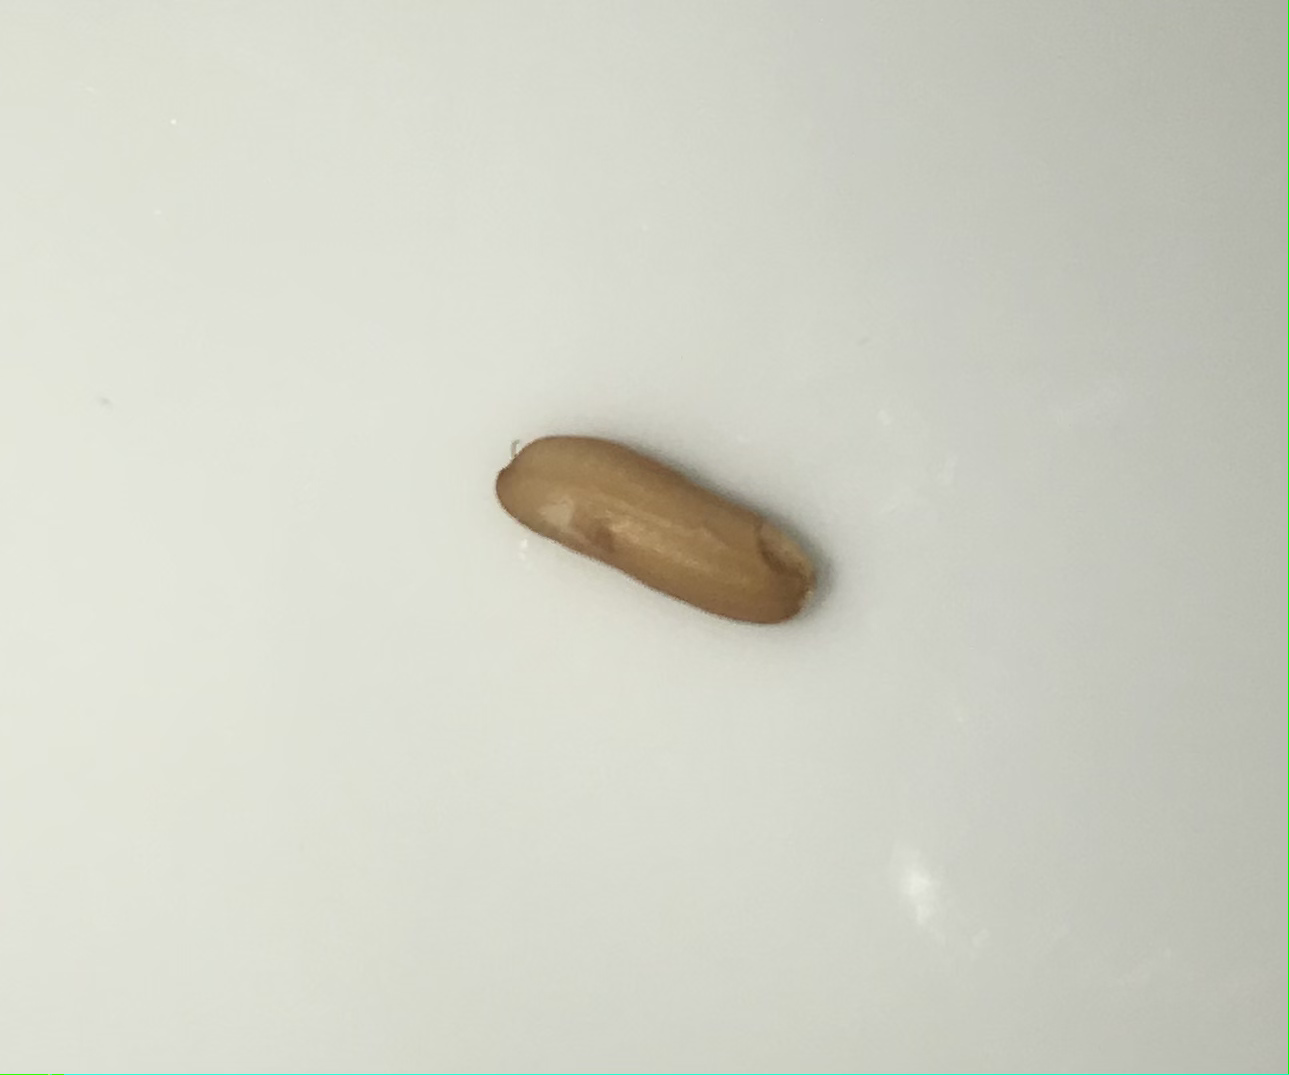Gao Lut Dien Bien: (484, 411, 828, 646)
